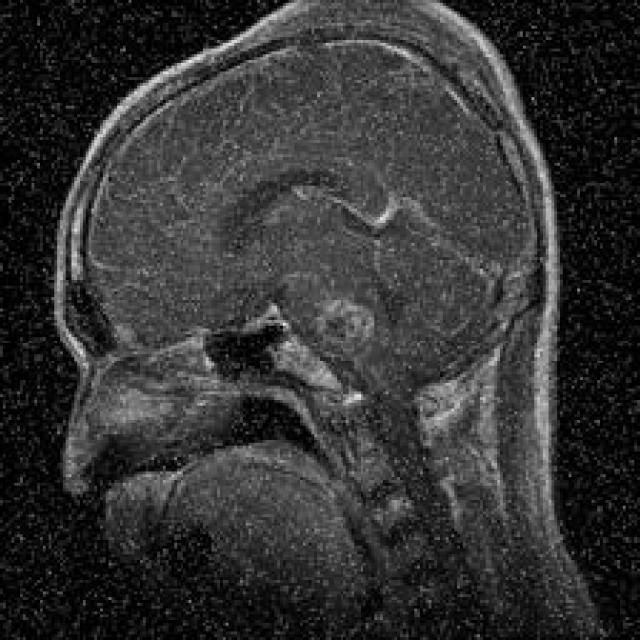glioma_tumor: (298, 284, 390, 370)
